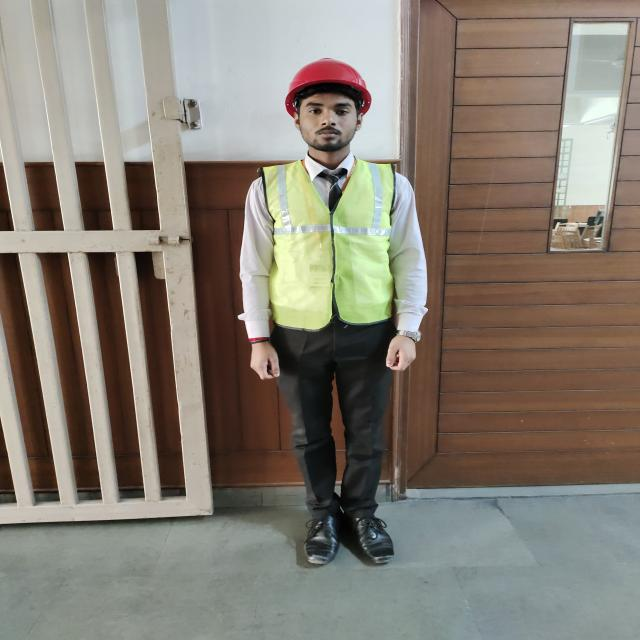safe: (243, 58, 428, 564)
